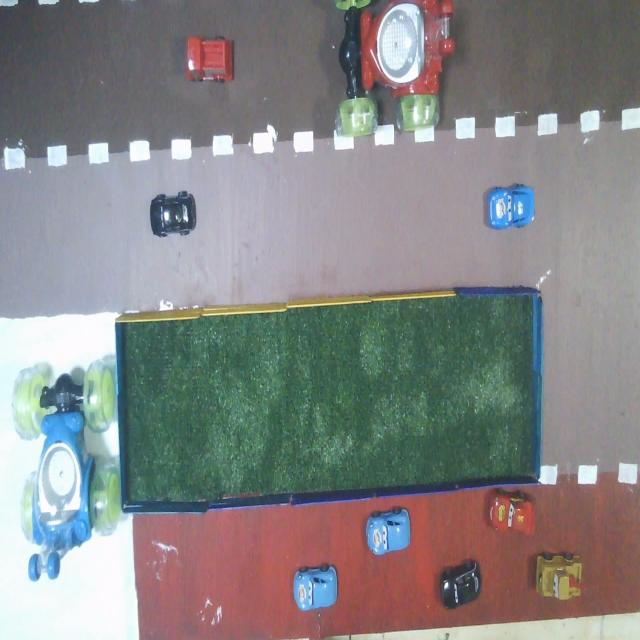driver car f: (13, 356, 120, 581)
small cars: (150, 191, 196, 237), (366, 508, 410, 555), (488, 185, 534, 229), (441, 560, 481, 609), (294, 565, 337, 610)
